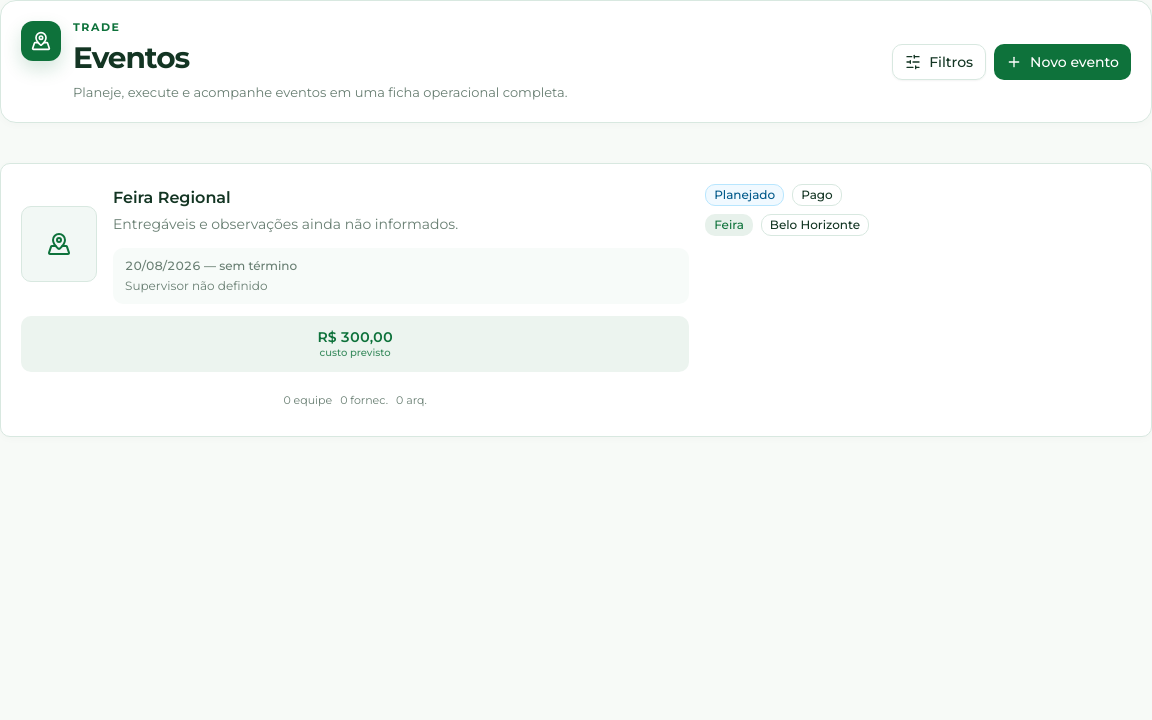
Test: formulários operacionais ampliados › mantém filtros recolhíveis e não exibe o controle de densidade
Click the button "Filtros": (939, 62) [892,44,986,80]
(page scrolled)
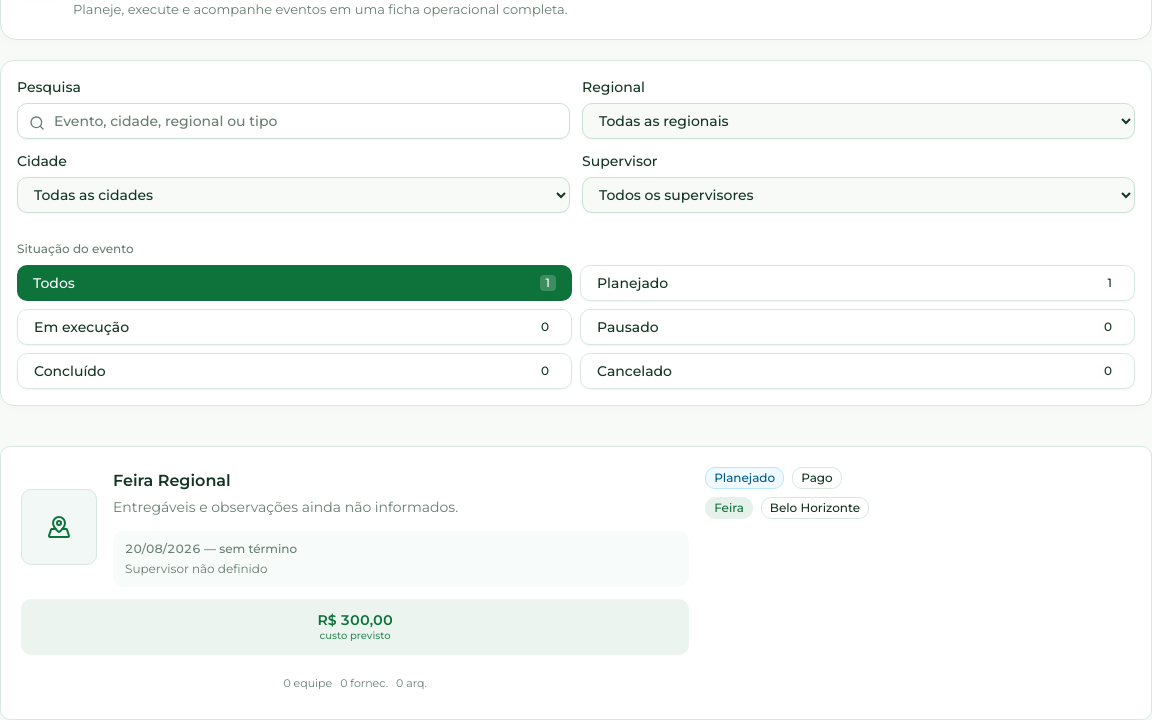
Expected: the dropdown named "Filtrar eventos por regional" is shown, [582,103,1135,139]
Expected: the dropdown named "Filtrar eventos por cidade" is shown, [17,177,570,213]
